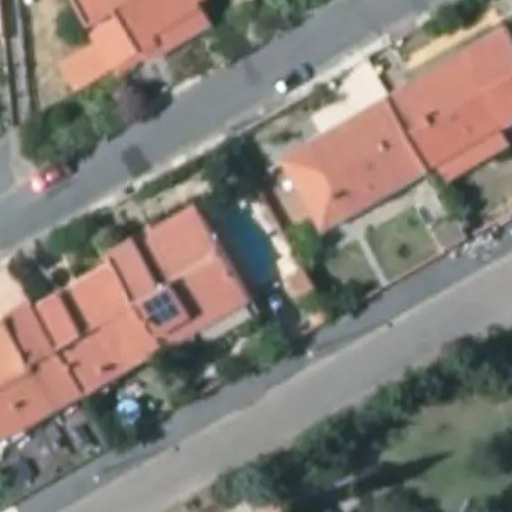pool: (219, 217, 295, 267)
